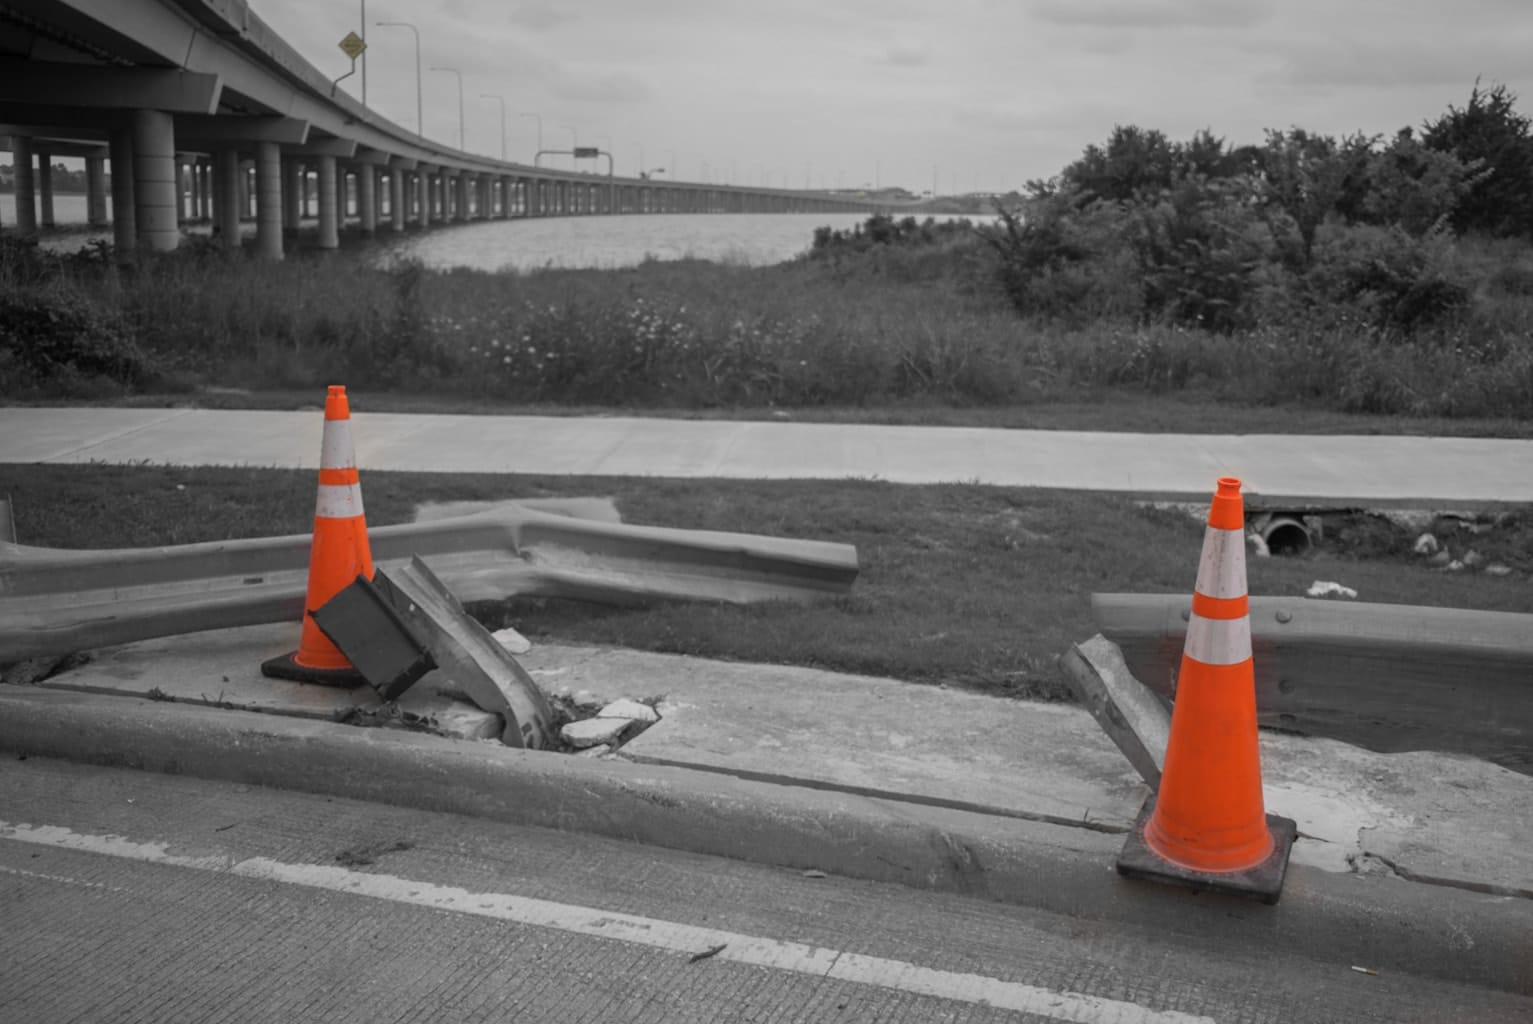damaged: (396, 501, 1171, 747)
